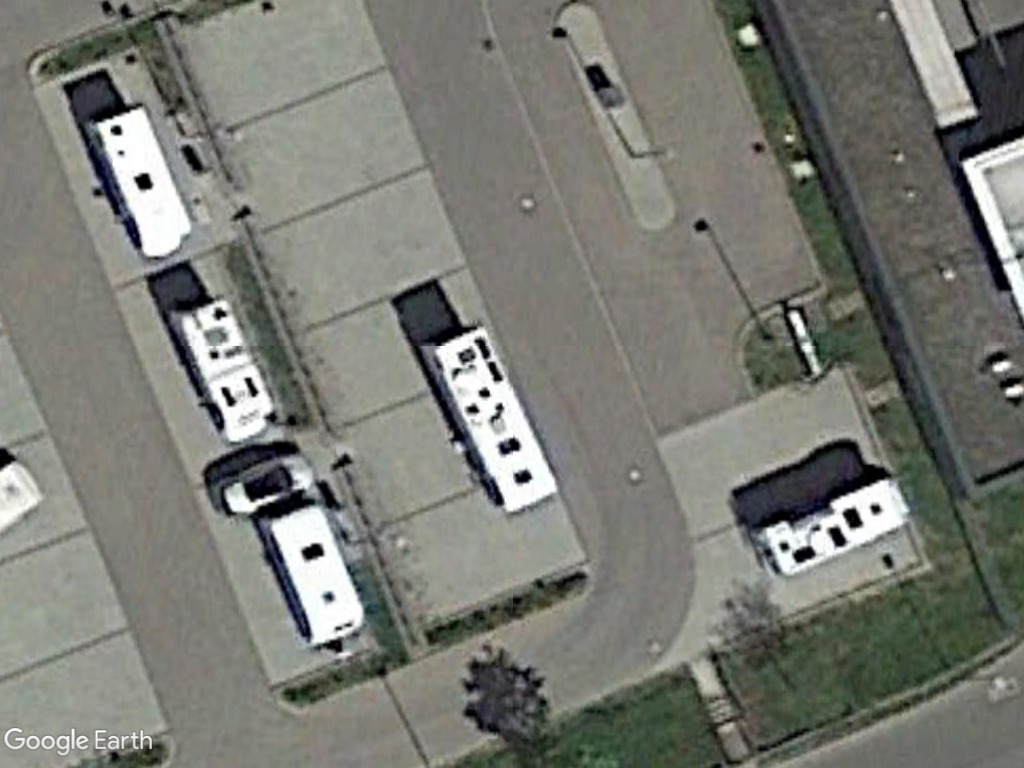bus: (412, 321, 561, 514), (82, 100, 196, 266), (254, 496, 368, 654), (749, 475, 916, 582), (162, 293, 279, 444)
